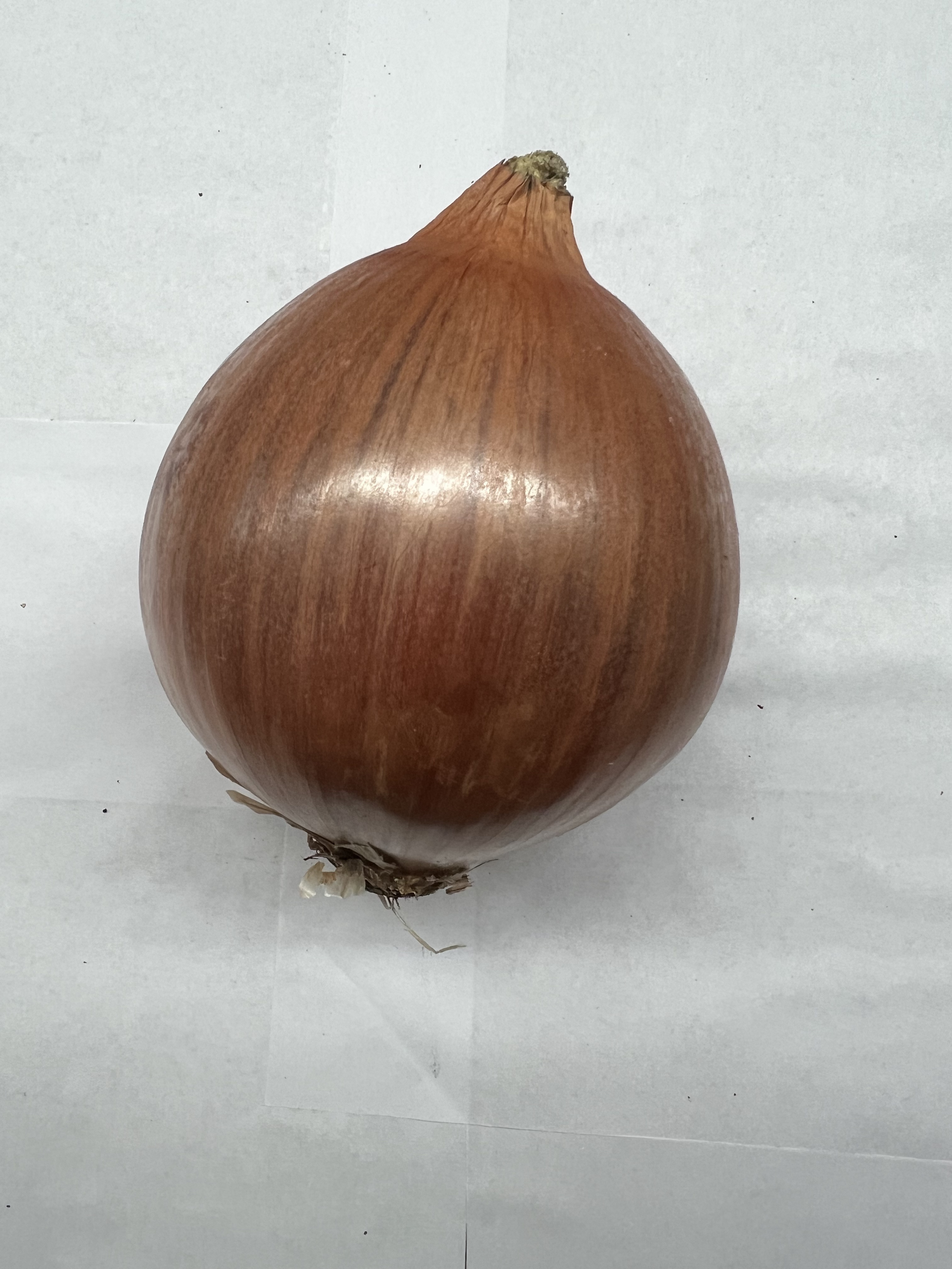produce: (127, 147, 748, 912)
